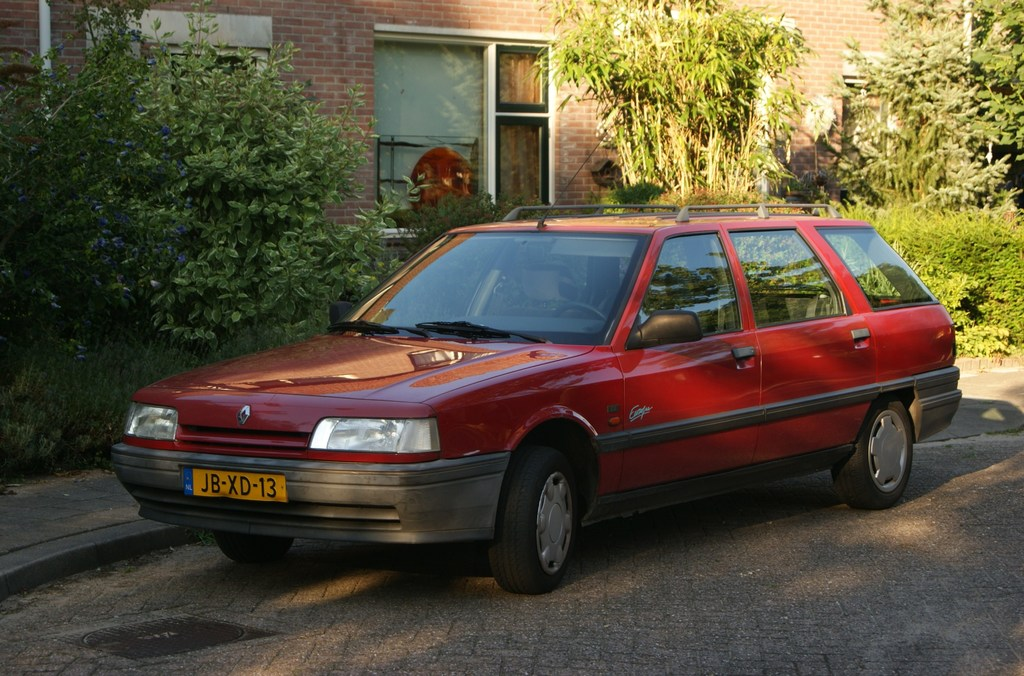Tree: (48, 0, 436, 359), (0, 0, 179, 375), (540, 1, 813, 187), (818, 0, 1023, 220)
